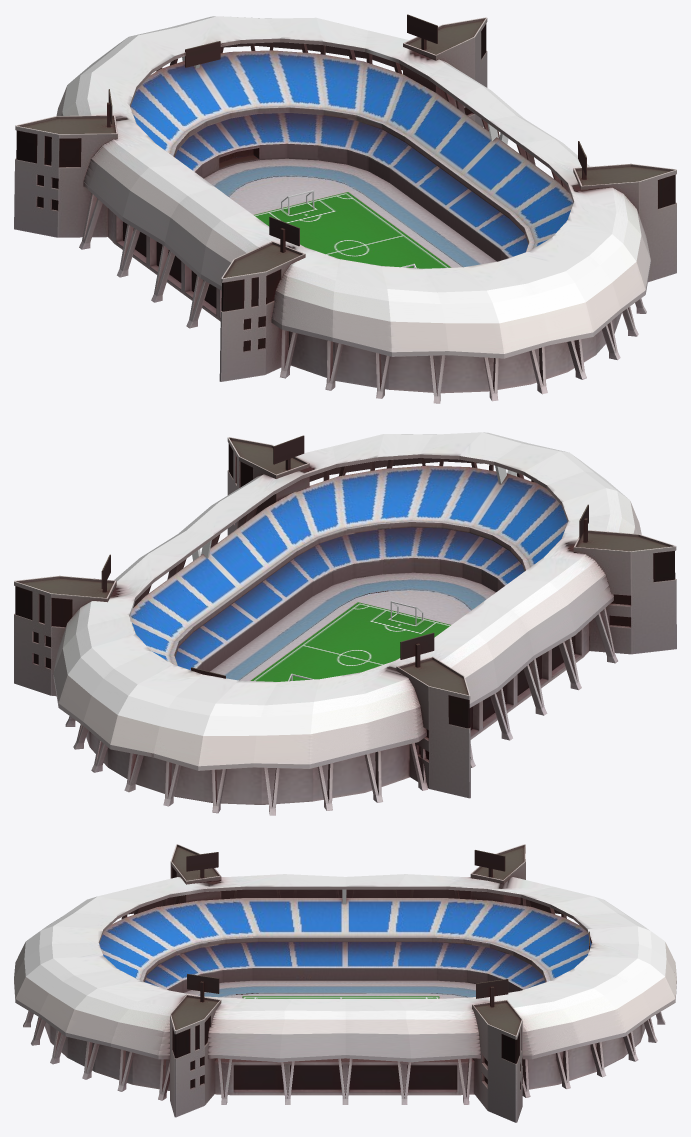
Rendered from estadio.glb.
The picture shows the model from 3 angles, top to bottom: view 1: azimuth 30°, elevation 25°; view 2: azimuth 150°, elevation 25°; view 3: azimuth 270°, elevation 25°; orthographic projection. The views are drawn at different scales.
Visible parts, largest first — view 1: Cylinder.008, Cylinder.007, Cube.071, Cylinder.006, Cube.053, Cube.073, Cube.039, Cube.072; view 2: Cylinder.008, Cylinder.007, Cube.071, Cylinder.006, Cube.073, Cube.053, Cube.039; view 3: Cylinder.008, Cylinder.007, Cylinder.006, Cube.071, Cube.053, Cube.039, Cube.073.
Boxes of the visible parts, bbox=[...] form: Cylinder.008: bbox=[56, 16, 650, 358]; Cylinder.007: bbox=[130, 50, 573, 267]; Cube.071: bbox=[14, 17, 676, 381]; Cylinder.006: bbox=[108, 208, 621, 393]; Cube.053: bbox=[79, 42, 646, 403]; Cube.073: bbox=[254, 192, 450, 268]; Cube.039: bbox=[107, 14, 586, 252]; Cube.072: bbox=[185, 41, 220, 67]; Cylinder.008: bbox=[53, 432, 641, 770]; Cylinder.007: bbox=[130, 465, 567, 680]; Cube.071: bbox=[14, 437, 676, 798]; Cylinder.006: bbox=[86, 623, 589, 804]; Cube.073: bbox=[251, 602, 450, 681]; Cube.053: bbox=[65, 458, 617, 815]; Cube.039: bbox=[101, 435, 588, 667]; Cylinder.008: bbox=[14, 874, 676, 1062]; Cylinder.007: bbox=[99, 898, 591, 998]; Cylinder.006: bbox=[44, 1022, 645, 1095]; Cube.071: bbox=[170, 844, 525, 1122]; Cube.053: bbox=[23, 889, 665, 1104]; Cube.039: bbox=[186, 850, 508, 1007]; Cube.073: bbox=[242, 996, 439, 998].
Bounding box in the file's own units: 4.34 × 1.15 × 6.34.
8 materials, 8 textured.
